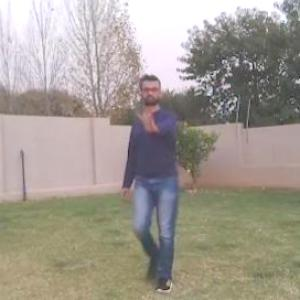takeoff-hand: (136, 102, 160, 132)
